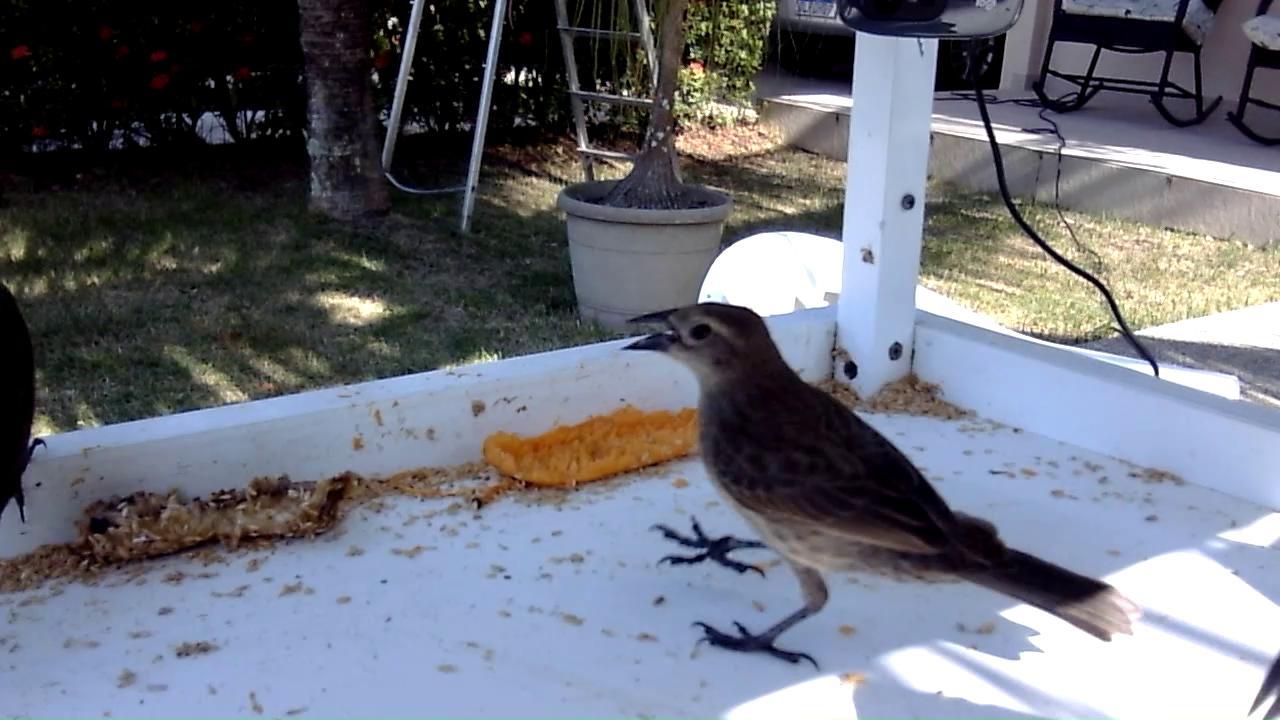chupim: (616, 300, 1145, 678)
